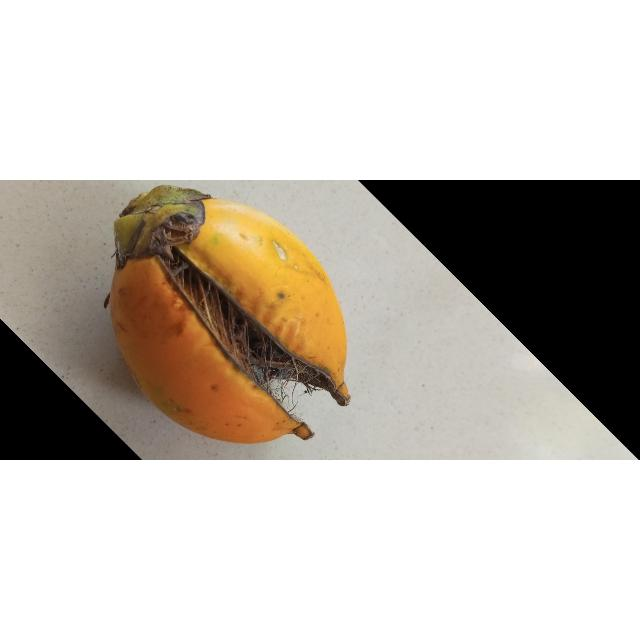damaged: (110, 186, 351, 445)
